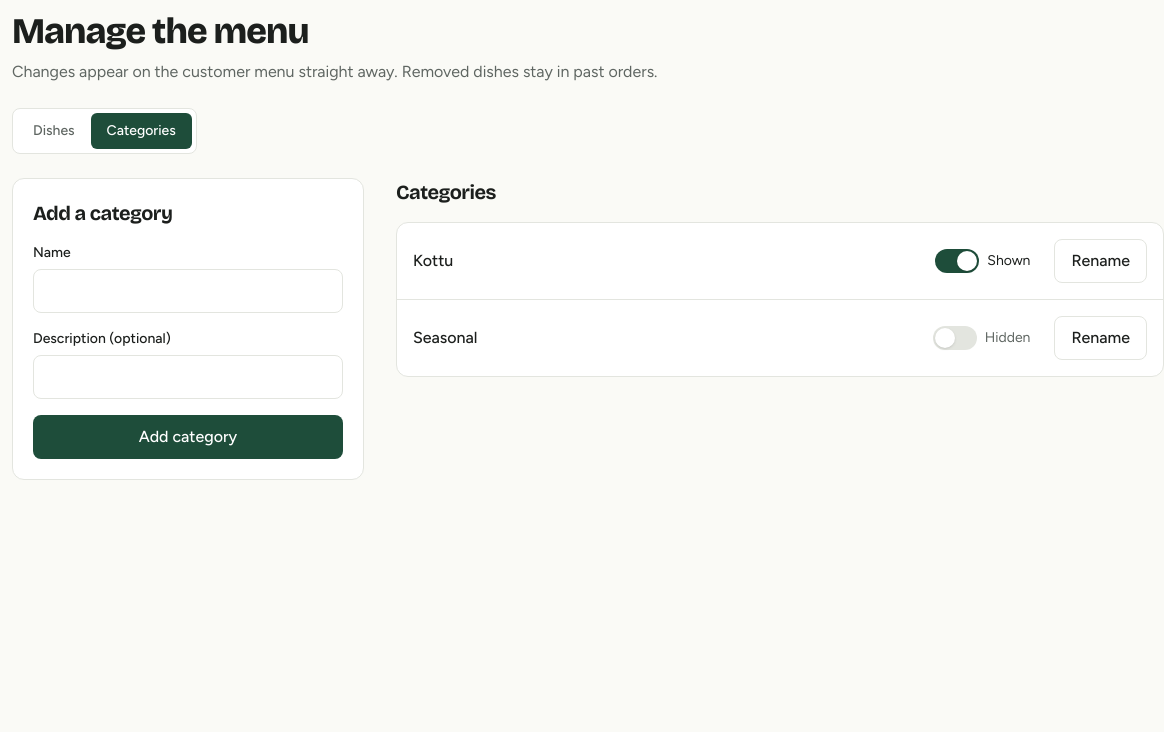
Test: ManageMenuPage: categories › shows a clear error for a duplicate category name
In the field labelled "Name": coordinates (188, 291) [33,269,343,313], type "KOTTU"
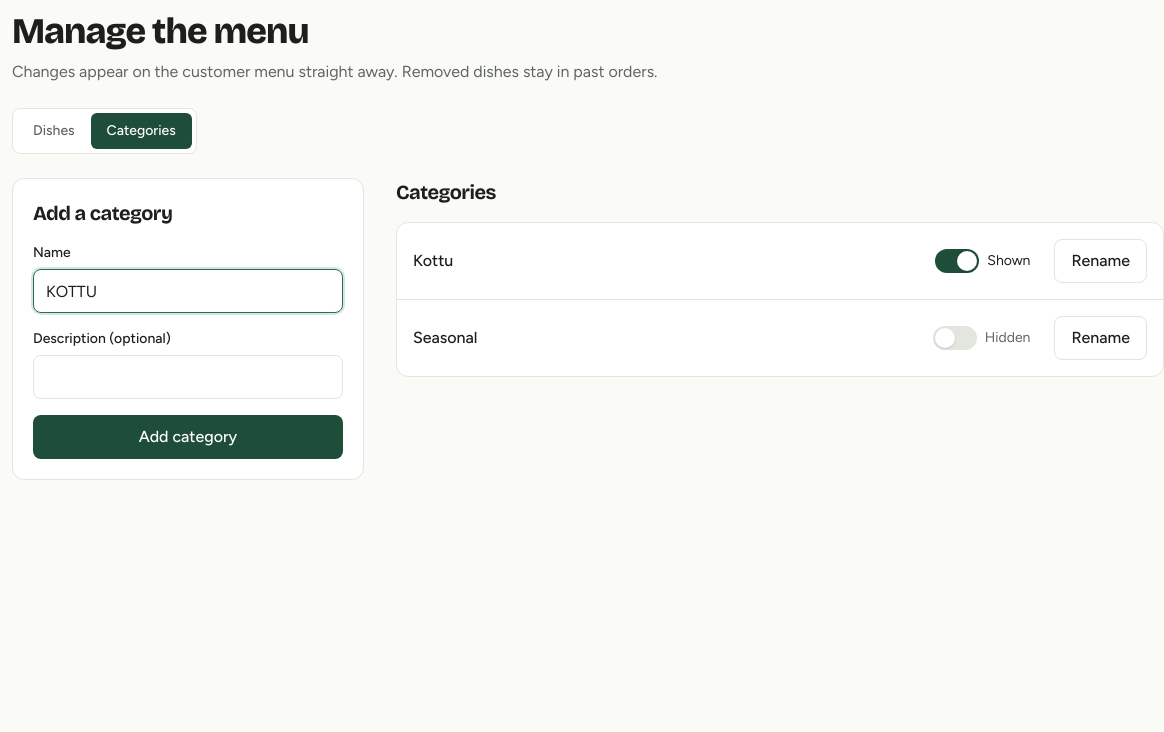
Click the button "Add category": coordinates (188, 437) [33,415,343,459]
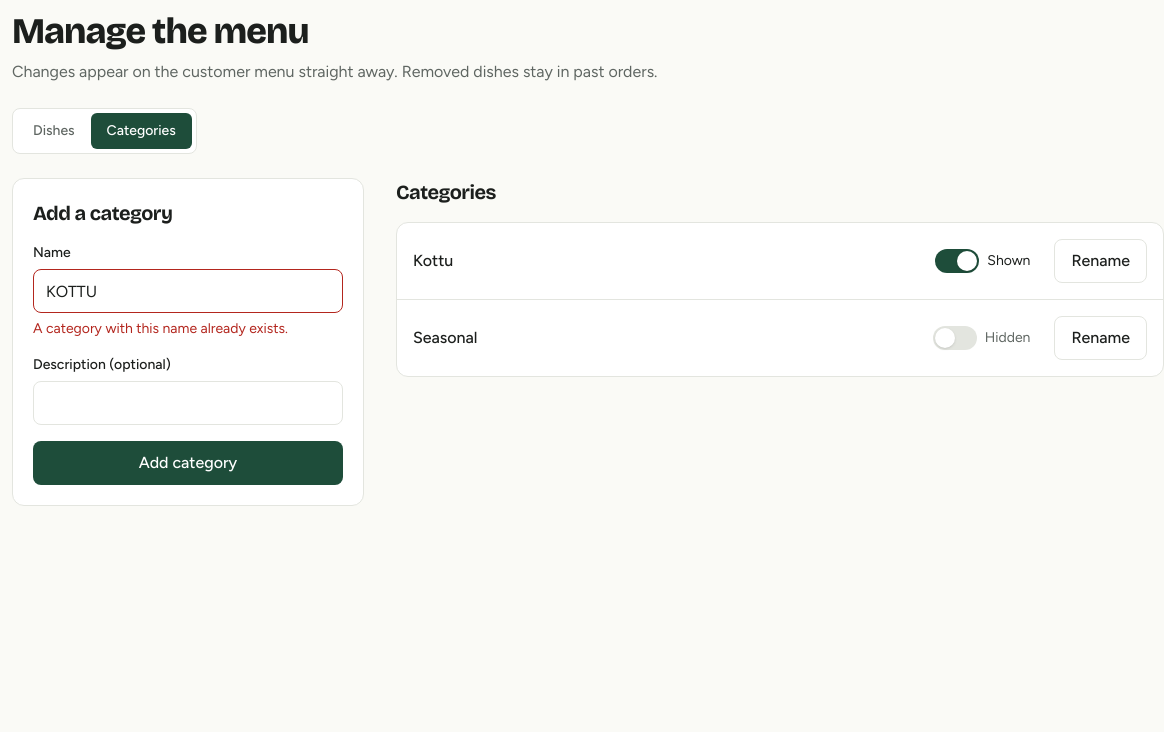
Expected: the text "A category with this name already exists." is shown, [33,320,288,337]
